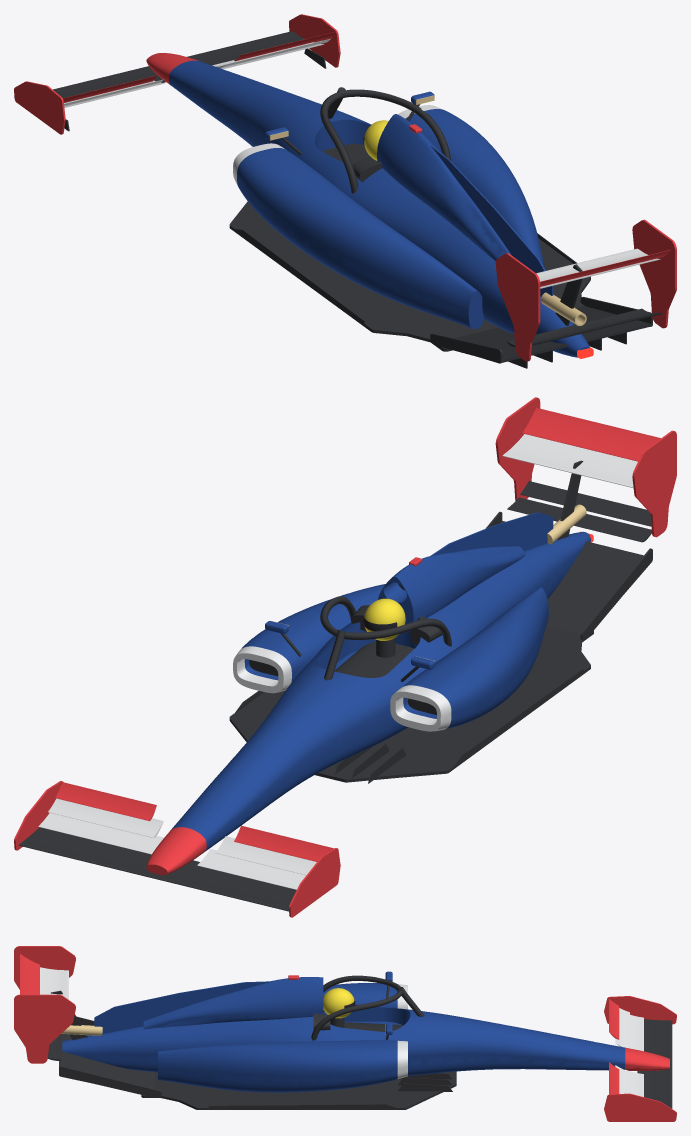
File: body.glb
The picture shows the model from 3 angles, top to bottom: view 1: azimuth 30°, elevation 25°; view 2: azimuth 150°, elevation 25°; view 3: azimuth 270°, elevation 25°; orthographic projection. The views are drawn at different scales.
Visible parts, largest first — view 1: Livery, Carbon, Accent, LiveryWhite, Metal, Helmet; view 2: Livery, Carbon, Accent, LiveryWhite, Helmet; view 3: Livery, Carbon, Accent, LiveryWhite, Helmet, Metal.
Boxes of the visible parts, box(x1,y1,x2,y2) form: Livery: box(169, 60, 589, 357); Carbon: box(53, 31, 663, 368); Accent: box(14, 14, 676, 361); LiveryWhite: box(64, 39, 660, 288); Metal: box(270, 95, 586, 325); Helmet: box(364, 120, 388, 160); Livery: box(171, 512, 590, 850); Carbon: box(18, 460, 652, 911); Accent: box(14, 397, 676, 917); LiveryWhite: box(38, 434, 637, 889); Helmet: box(364, 598, 405, 640); Livery: box(62, 971, 625, 1092); Carbon: box(47, 975, 672, 1109); Accent: box(14, 946, 676, 1121); LiveryWhite: box(40, 967, 643, 1096); Helmet: box(323, 988, 354, 1018); Metal: box(61, 972, 385, 1035).
Size of the model in its own units: 1.97 by 0.955 by 5.62.
